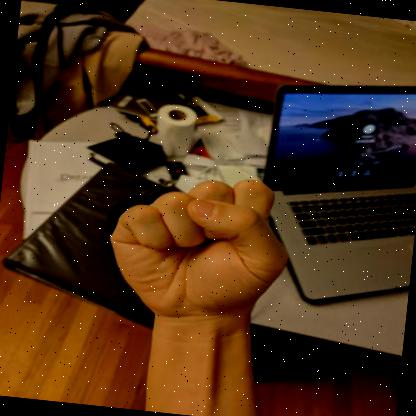S: (109, 179, 288, 330)
